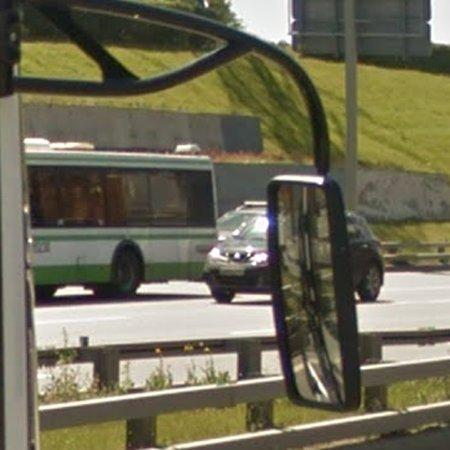buses: (25, 150, 217, 295)
